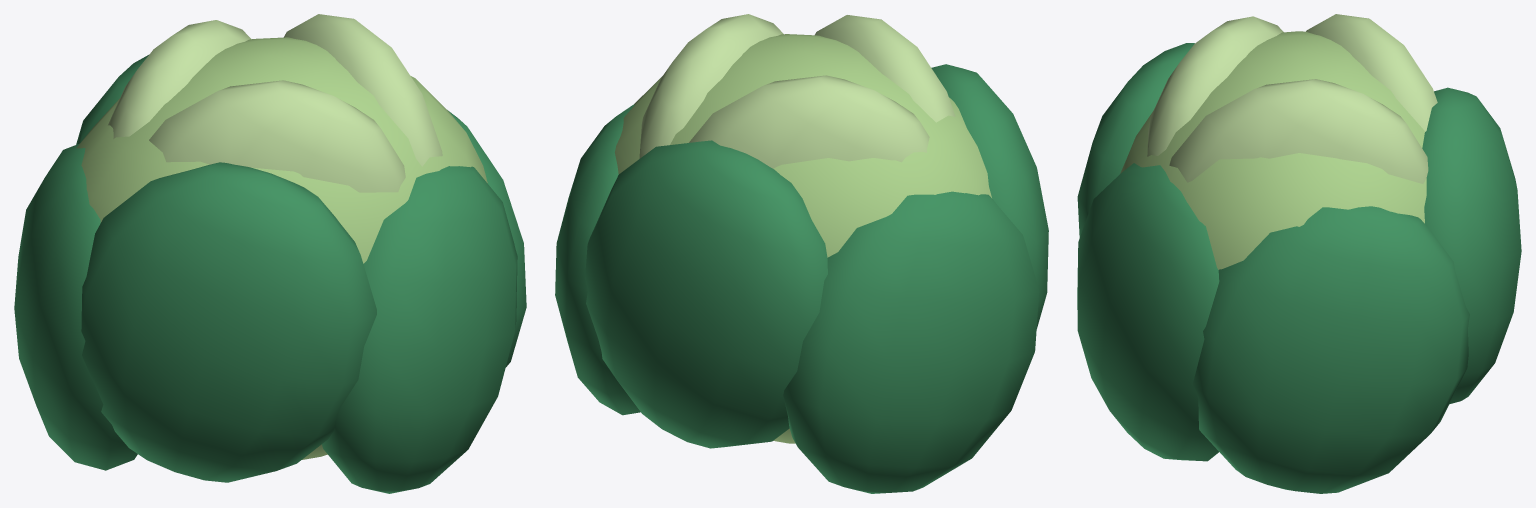
The model's file is cabbage.glb.
The picture shows the model from 3 angles, left to right: view 1: azimuth 30°, elevation 25°; view 2: azimuth 150°, elevation 25°; view 3: azimuth 270°, elevation 25°; orthographic projection. The views are drawn at different scales.
Visible parts, largest first — view 1: cabbage; view 2: cabbage; view 3: cabbage.
Boxes of the visible parts, x1=… form: cabbage: x1=14, y1=14, x2=526, y2=493; cabbage: x1=555, y1=14, x2=1048, y2=493; cabbage: x1=1077, y1=14, x2=1521, y2=493.
Size of the model in its own units: 0.4966 by 0.4251 by 0.4546.
